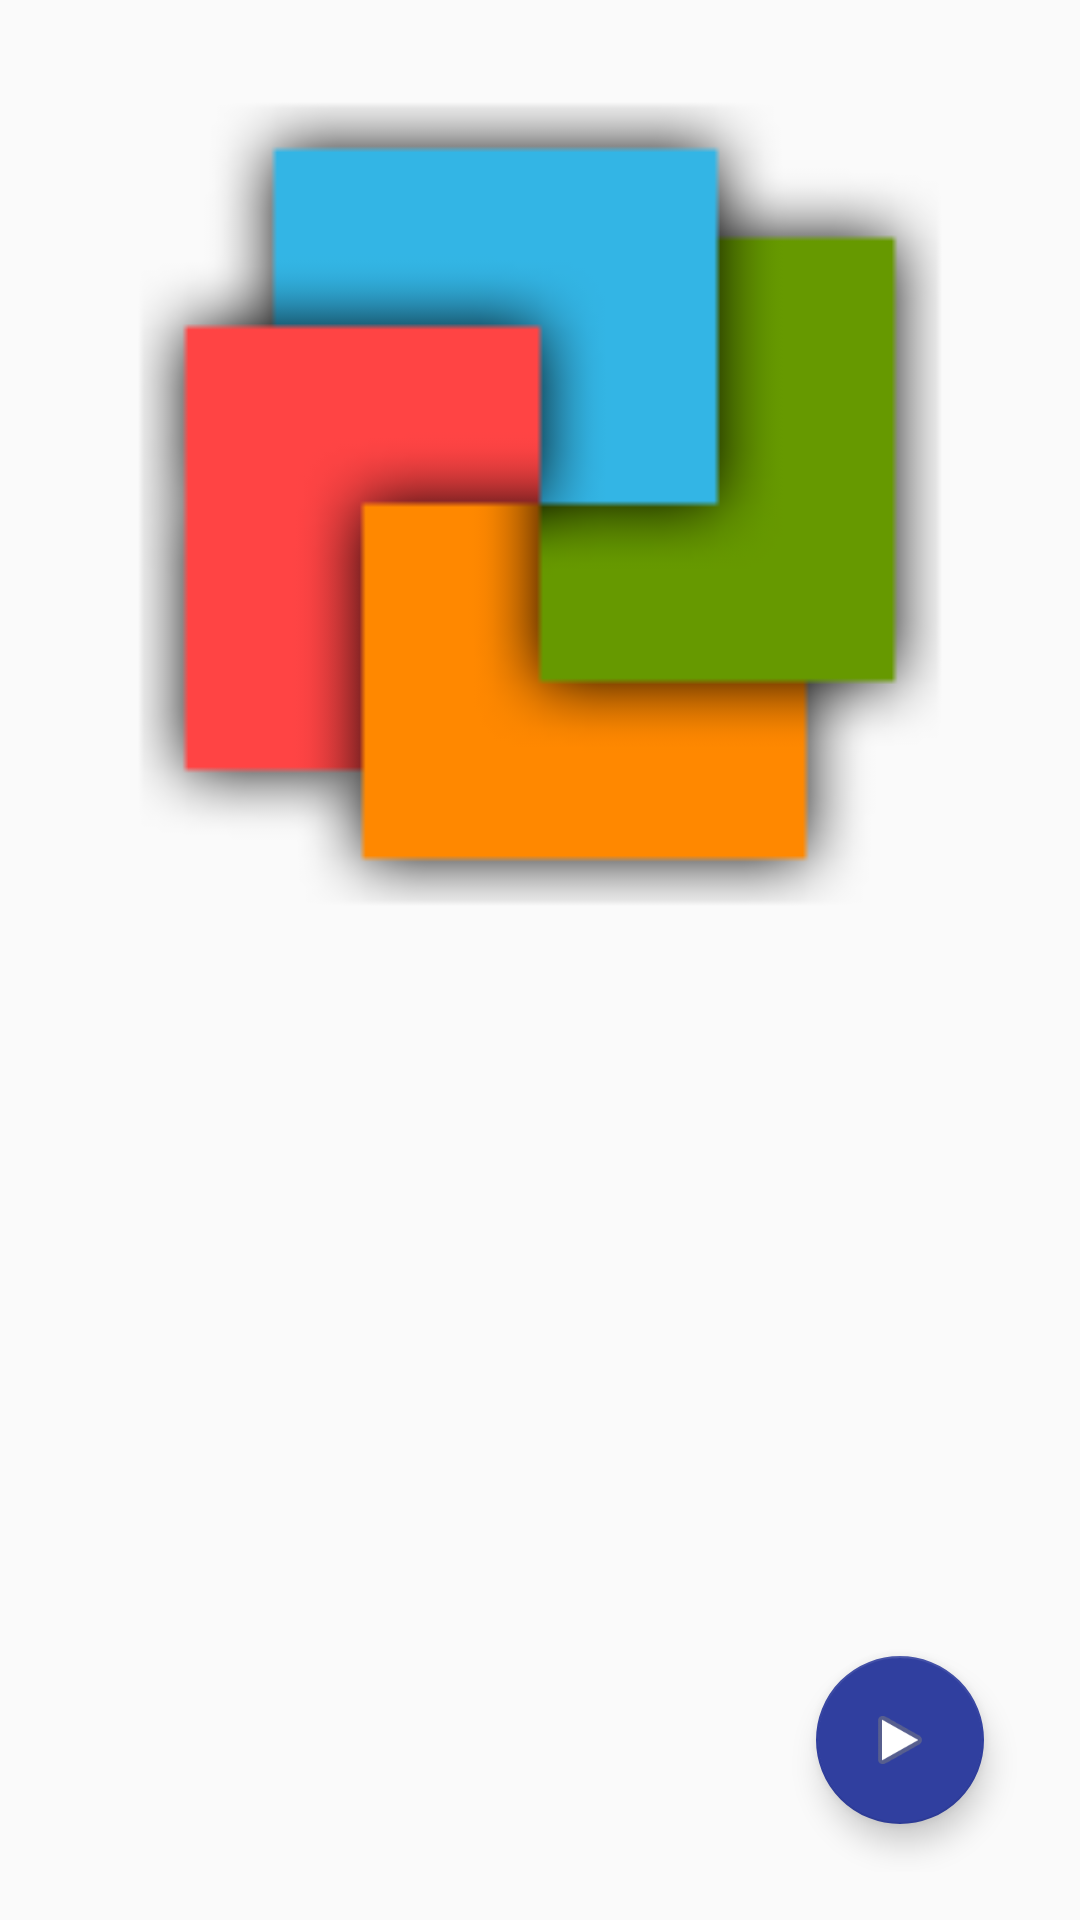

Screen size 1080w x 1920h. Icon name, then its box in pixels as Rect(x1, y1, x2, y2):
play: Rect(816, 1656, 984, 1824)
